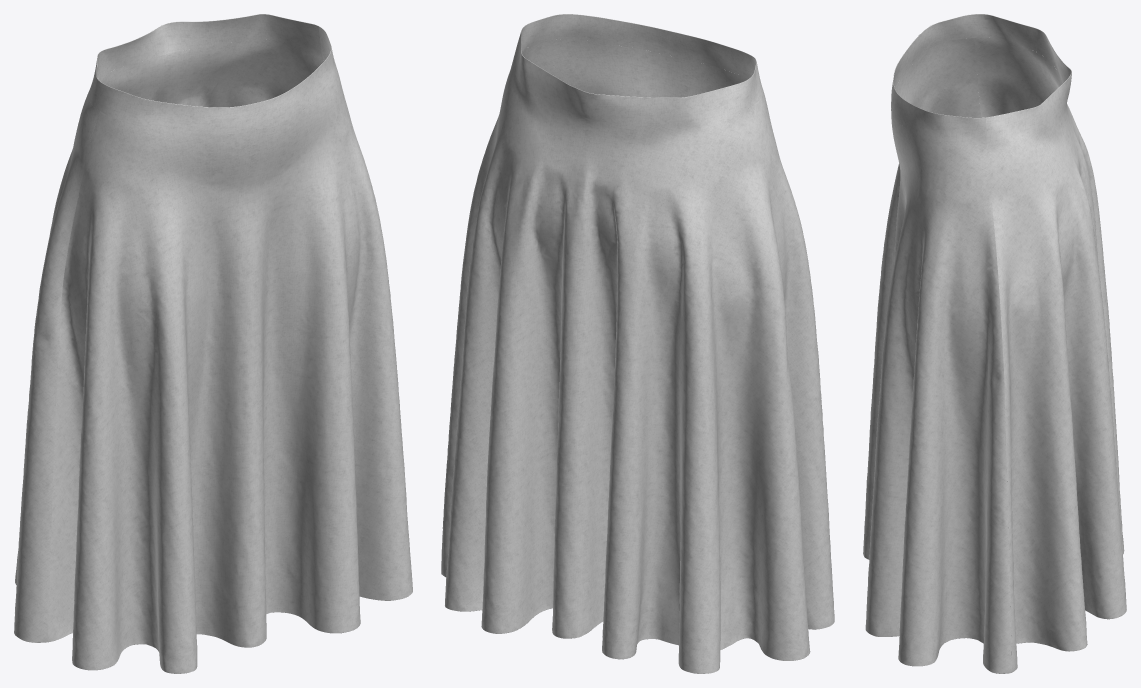
3 views of the same model, side by side, from view 1: azimuth 30°, elevation 25°; view 2: azimuth 150°, elevation 25°; view 3: azimuth 270°, elevation 25° (orthographic). The views are drawn at different scales.
Visible parts, largest first — view 1: 6, 5, 3; view 2: 5, 6, 3; view 3: 6, 5, 3.
Part boxes in pixels (x1,y1,x2,y2): 6: [47, 51, 412, 673]; 5: [14, 39, 323, 642]; 3: [88, 14, 336, 134]; 5: [441, 62, 810, 673]; 6: [441, 39, 834, 629]; 3: [512, 14, 763, 126]; 6: [863, 38, 1011, 673]; 5: [974, 37, 1126, 672]; 3: [891, 14, 1071, 144].
Bounding box in the file's own units: 47.51 × 69.58 × 31.42.
3 materials, 3 textured.
